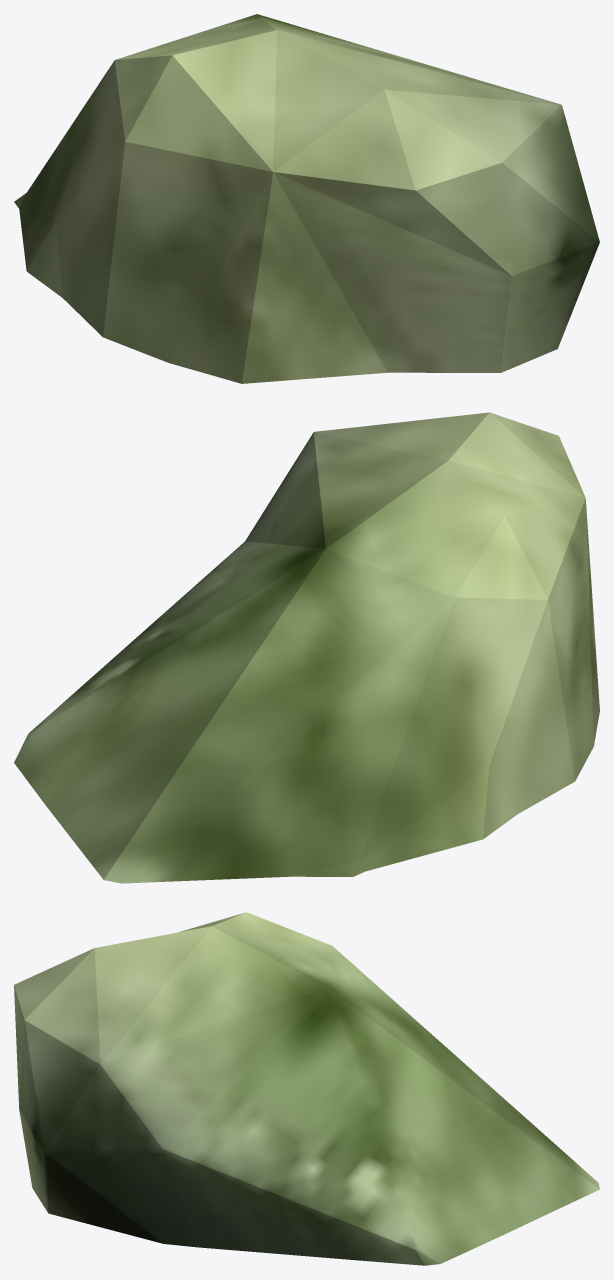
3 views of the same model, one above another, from view 1: azimuth 30°, elevation 25°; view 2: azimuth 150°, elevation 25°; view 3: azimuth 270°, elevation 25° (orthographic). The views are drawn at different scales.
Size of the model in its own units: 0.3873 by 0.2256 by 0.5426.
1 material, 1 textured.
